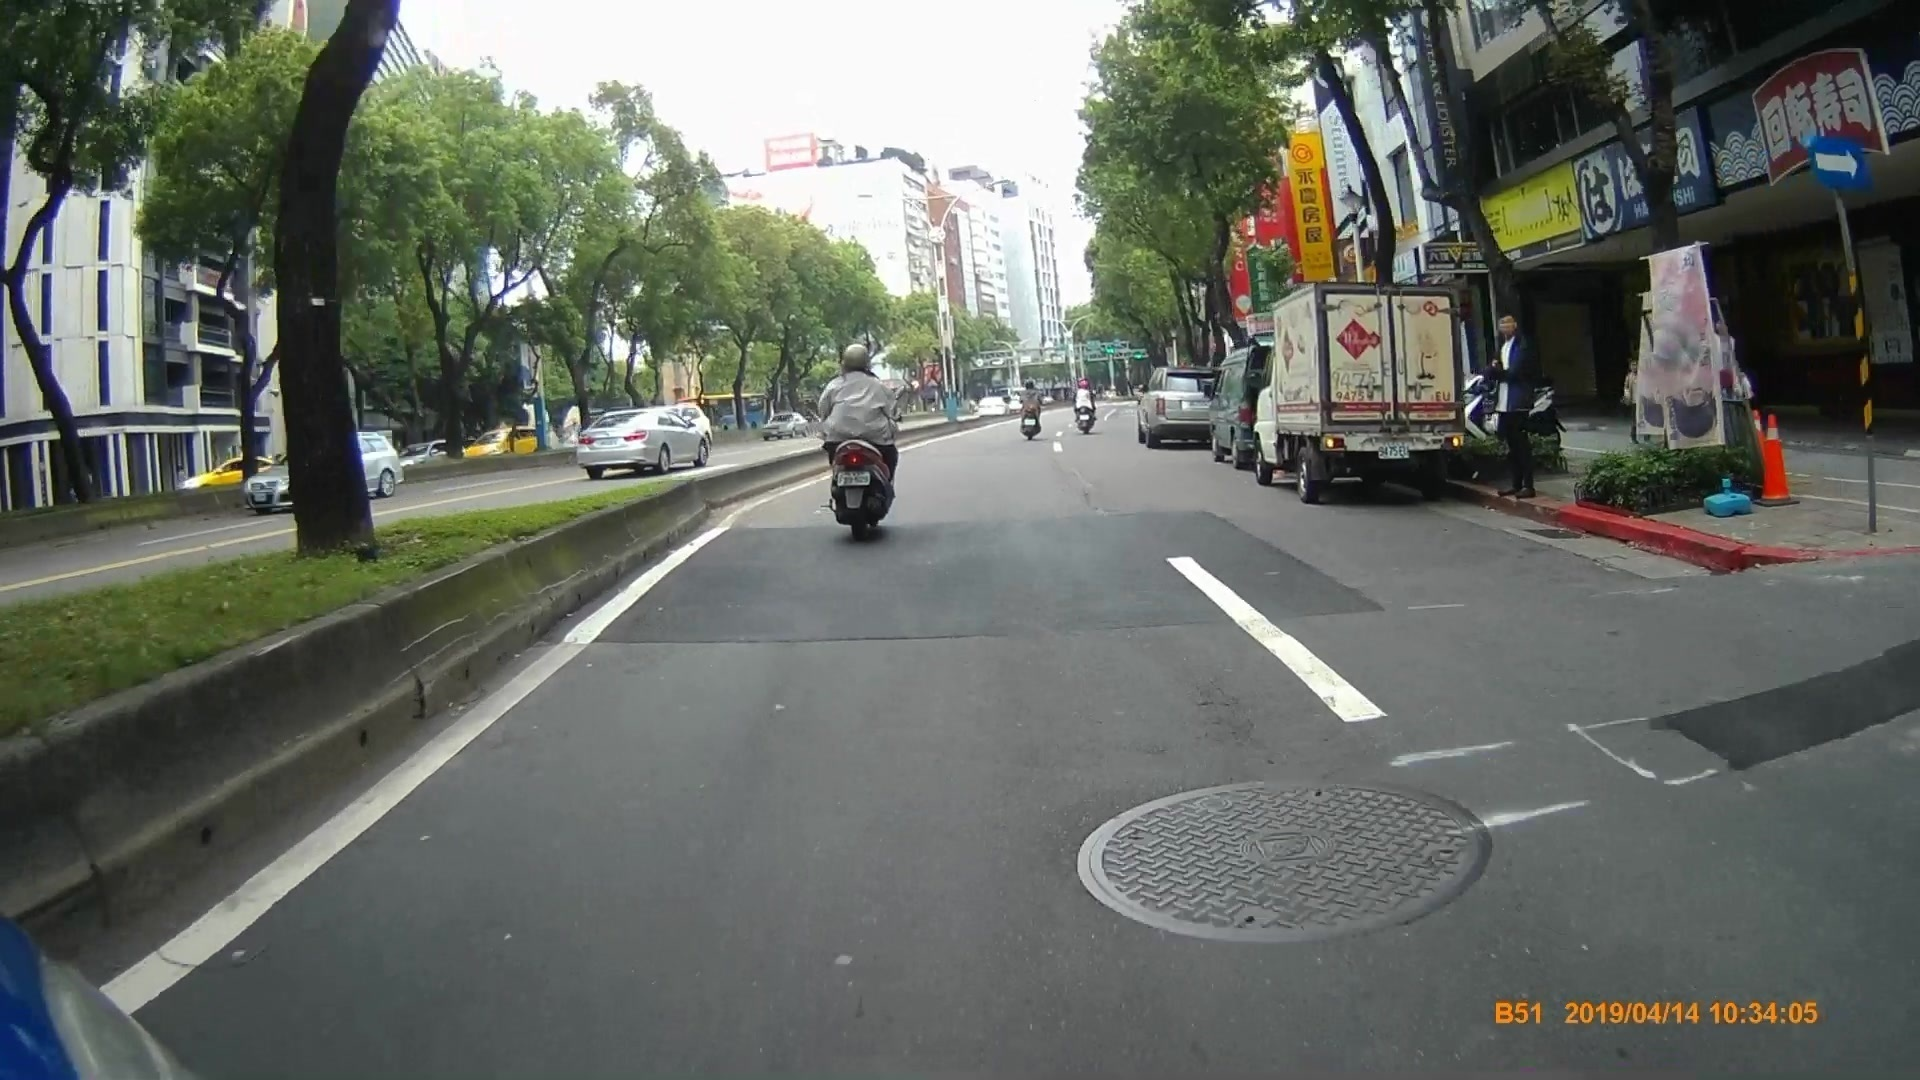License_plate: (1371, 443, 1415, 460), (835, 469, 871, 486)
